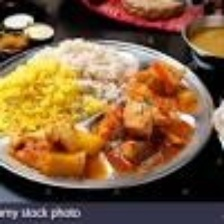rice: (27, 38, 136, 81)
